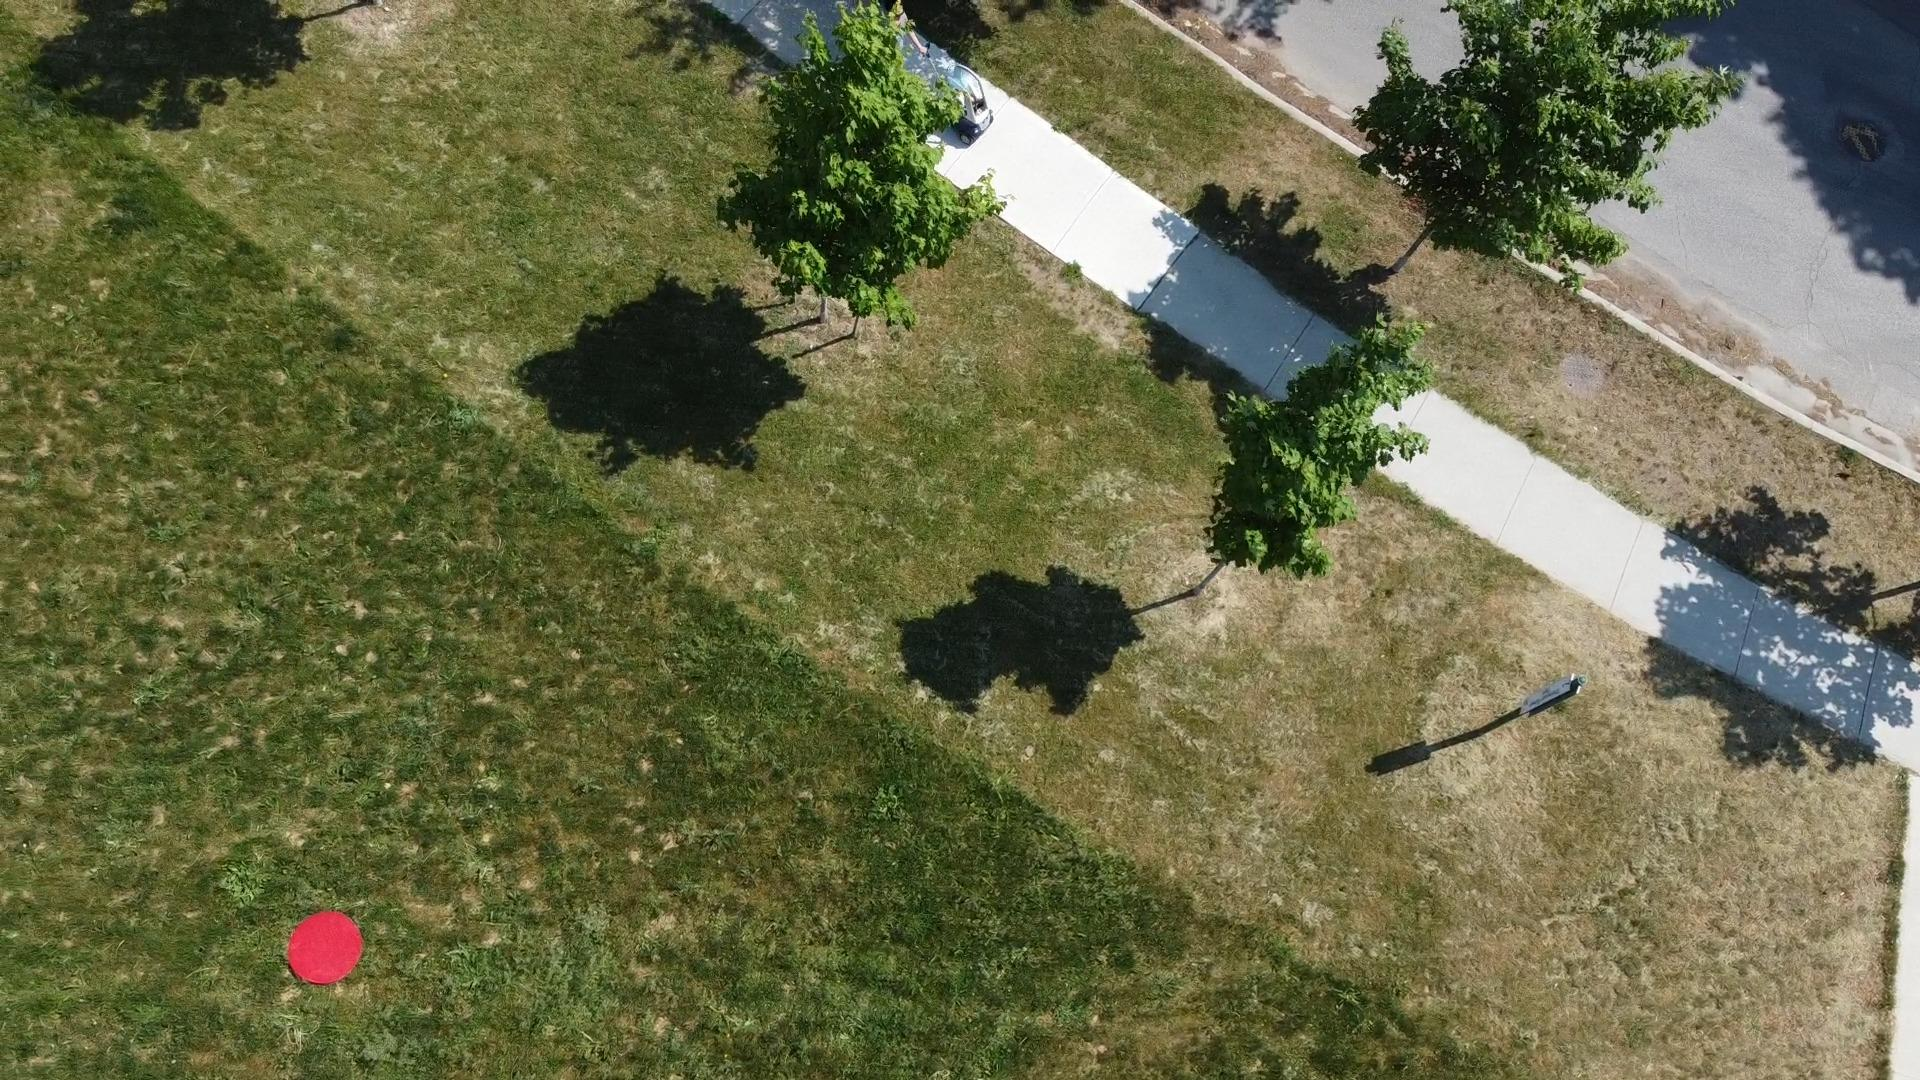Red: (285, 909, 367, 986)
